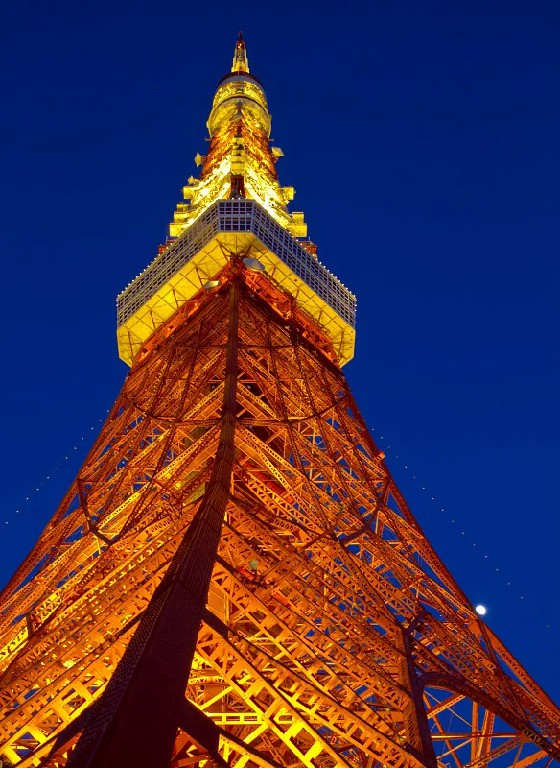Tokyo: (1, 28, 559, 766)
